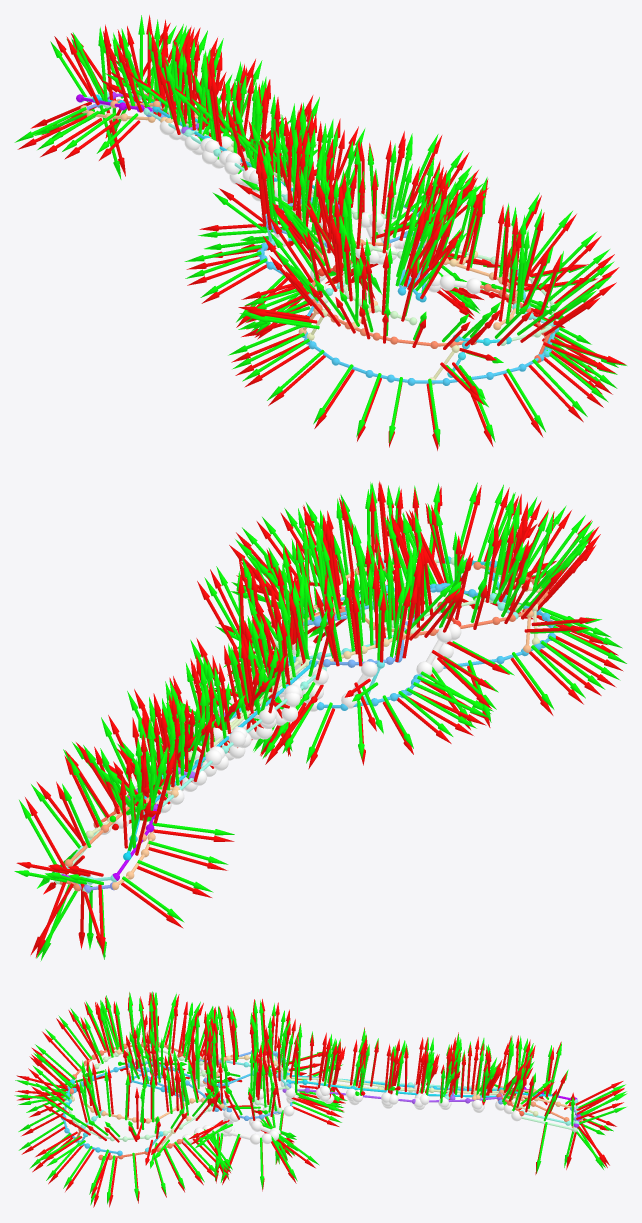
The model's file is author2_guitar.gltf.
3 renders of one model, top to bottom at view 1: azimuth 30°, elevation 25°; view 2: azimuth 150°, elevation 25°; view 3: azimuth 270°, elevation 25°, orthographic. The views are drawn at different scales.
Size of the model in its own units: 0.5105 by 0.2886 by 1.11.
